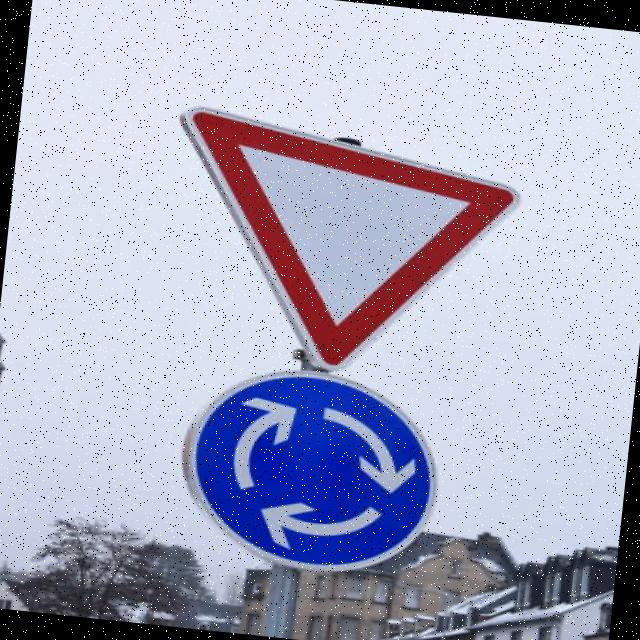round_about: (171, 357, 450, 586)
